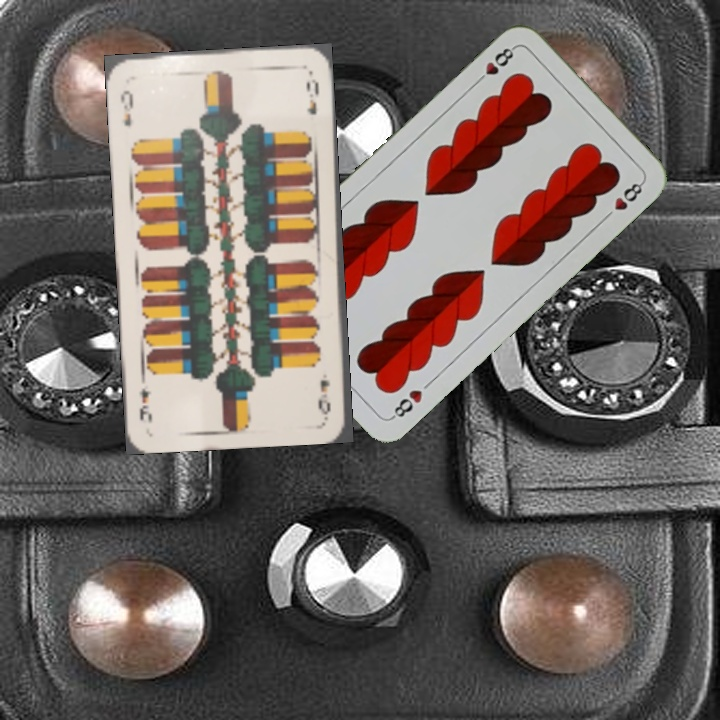E9: (116, 86, 136, 129), (316, 375, 334, 418)
H8: (471, 42, 519, 87), (387, 385, 425, 422)
